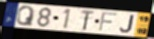1: (63, 9, 72, 30)
8: (36, 7, 54, 28)
F: (98, 11, 119, 32)
J: (119, 15, 135, 34)
Q: (15, 5, 36, 27)
T: (80, 9, 96, 32)
